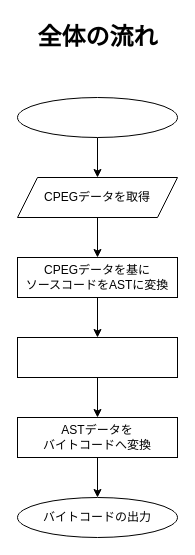
Image size: 195x555. Some labels were removed from this diagram. Each missing label, with the centre of its shape:
エラーチェック ( コンパイル時の型など ): point 97,357
ソースファイルの入力: point 97,117
